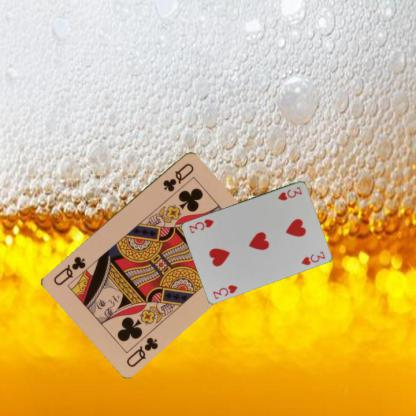3h: (210, 282, 240, 300), (275, 184, 303, 202)
Qc: (124, 334, 160, 369), (160, 160, 195, 193)
